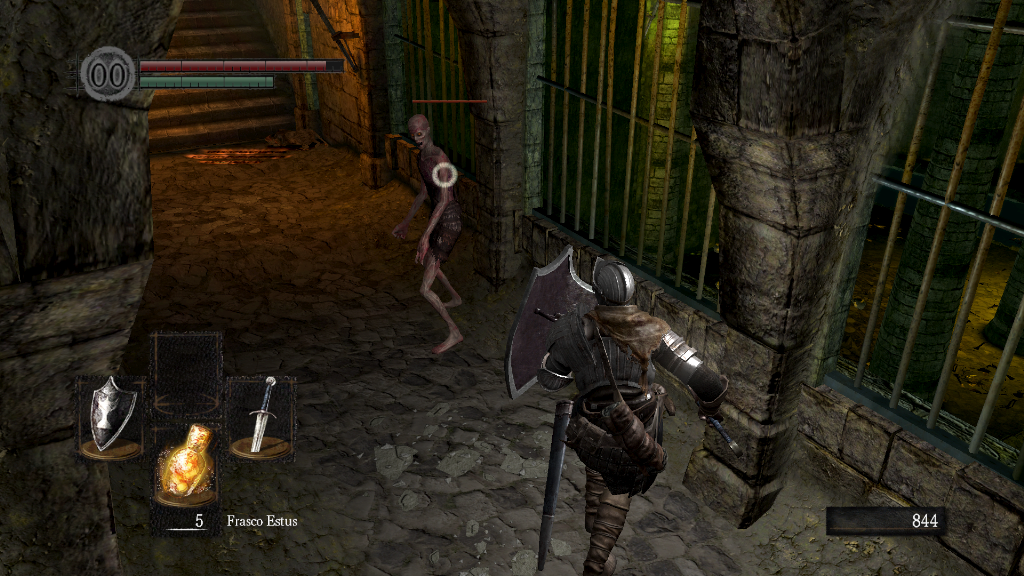health: (138, 58, 343, 71)
hollow: (390, 110, 468, 358)
humanity: (80, 45, 136, 102)
player: (504, 243, 747, 576)
souls: (825, 506, 945, 536)
stamina: (138, 74, 274, 88)
